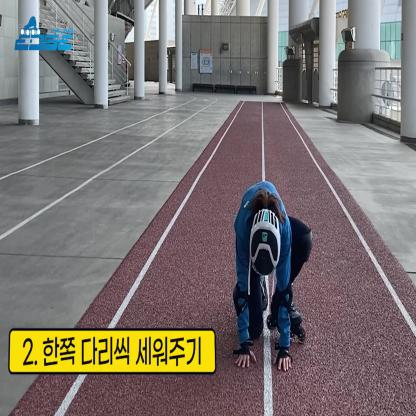Fall_Down: (230, 177, 314, 370)
